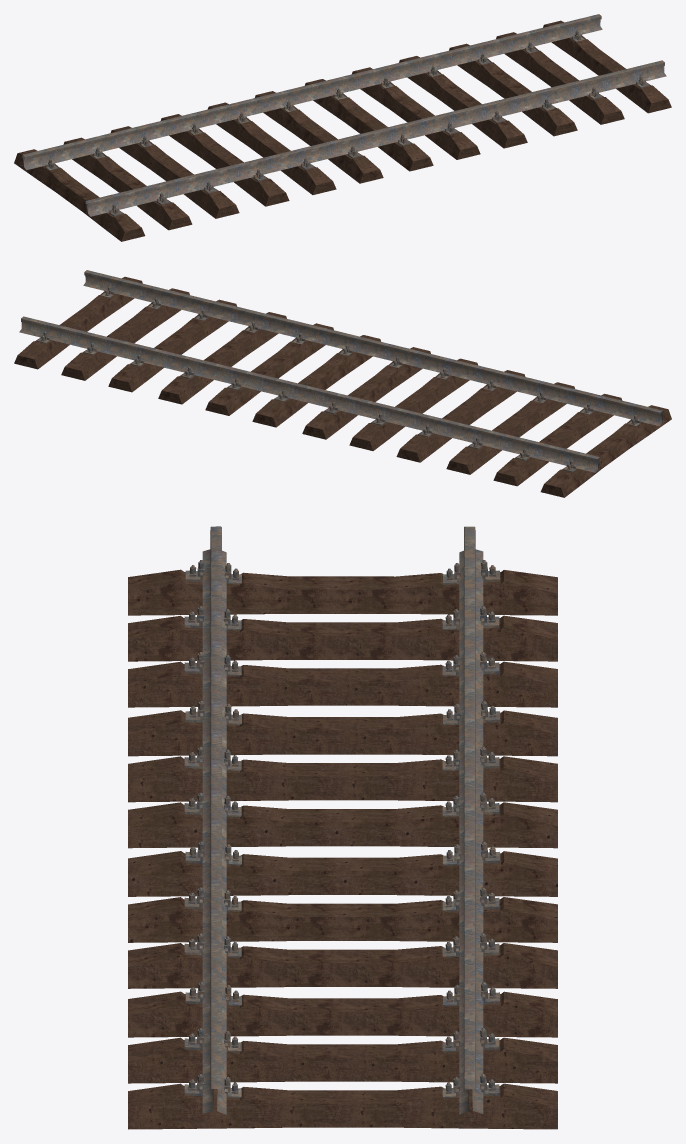
File: w_railway_rail.glb
3 views of the same model, one above another, from view 1: azimuth 30°, elevation 25°; view 2: azimuth 150°, elevation 25°; view 3: azimuth 270°, elevation 25° (orthographic). The views are drawn at different scales.
Parts seen in each view (by area): view 1: rail2; view 2: rail2; view 3: rail2.
Part boxes in pixels (<box>): rail2: <box>14,14,671,241</box>; rail2: <box>14,270,671,497</box>; rail2: <box>128,526,557,1129</box>.
Bounding box in the file's own units: 4.34 × 0.1936 × 1.4.
Materials: 2 (2 with a texture image).
